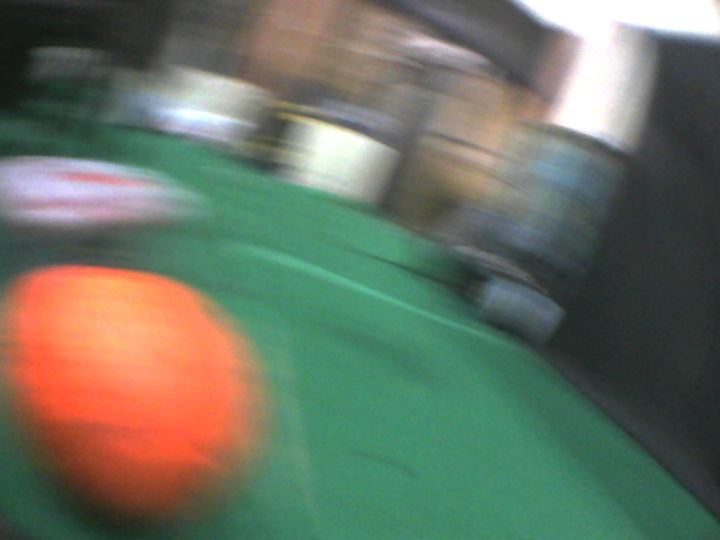bola: (6, 253, 280, 540)
